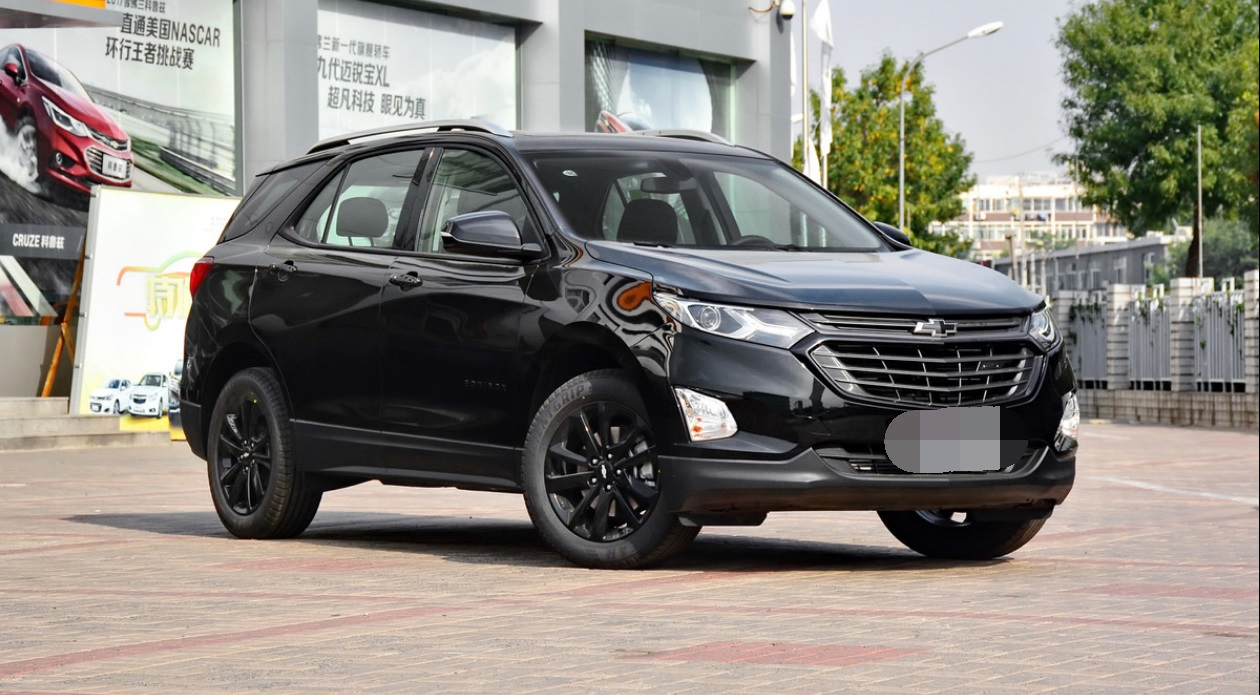SUV: (179, 113, 1089, 571)
